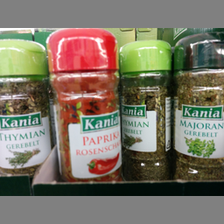spices: (45, 28, 122, 183), (172, 33, 222, 181), (119, 40, 171, 182), (1, 38, 45, 179)
